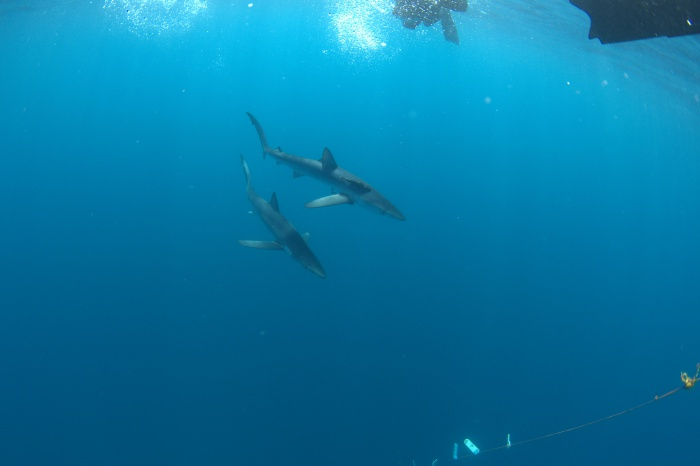Azul: (234, 99, 466, 227), (212, 150, 342, 293)
